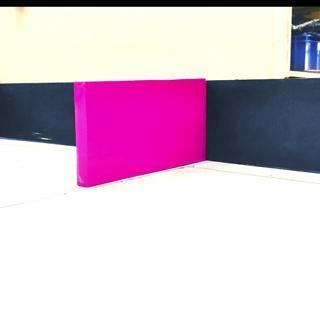xparking: (76, 82, 204, 171)
